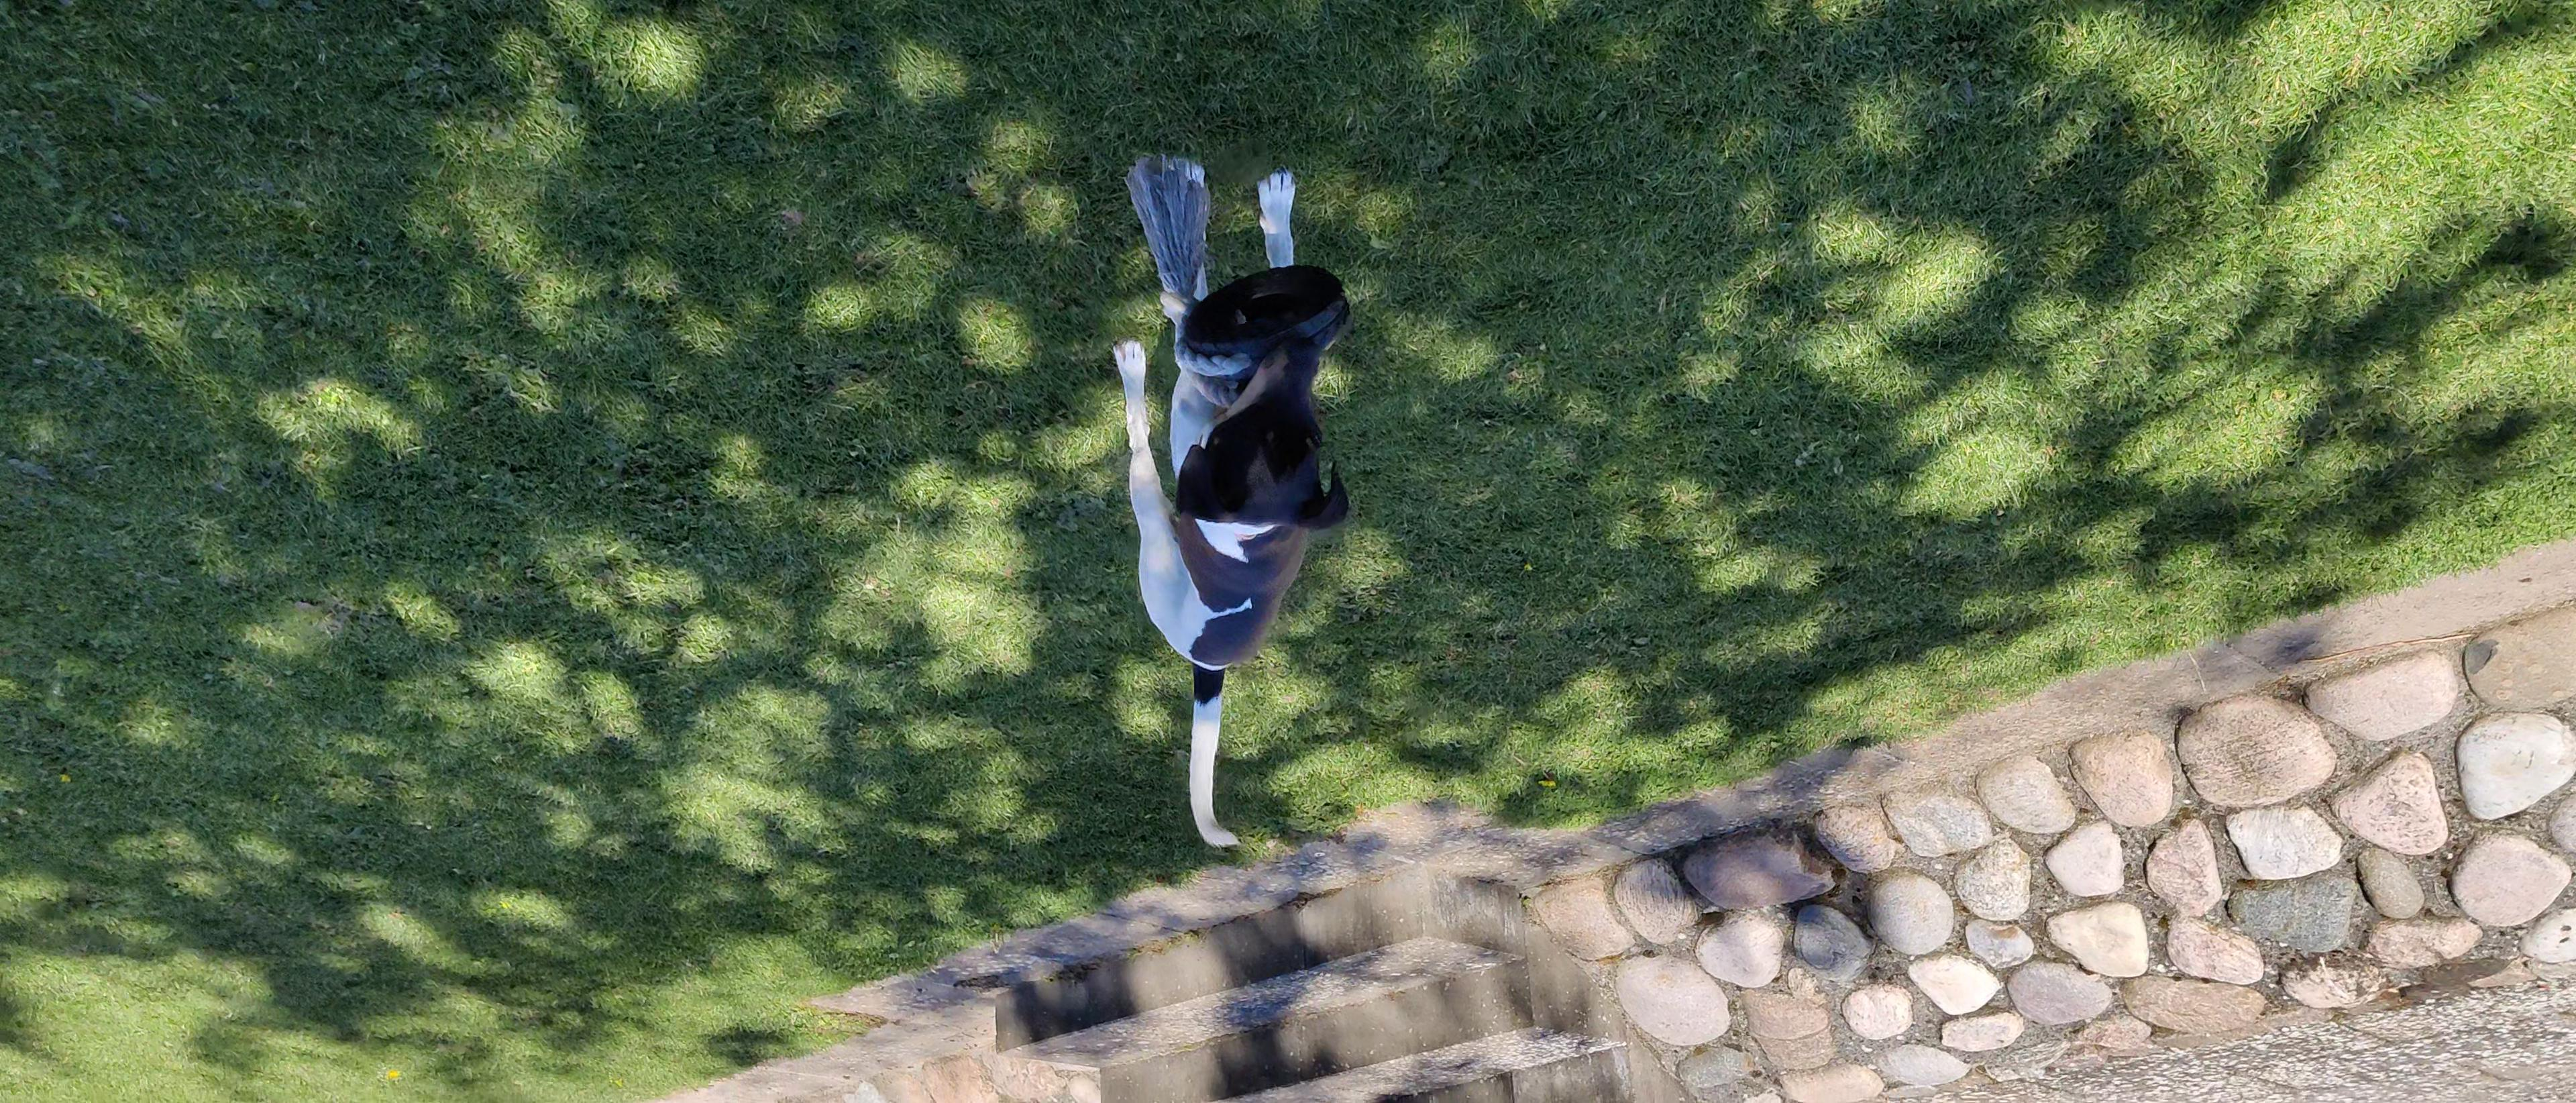Dog: (1076, 122, 1365, 865)
